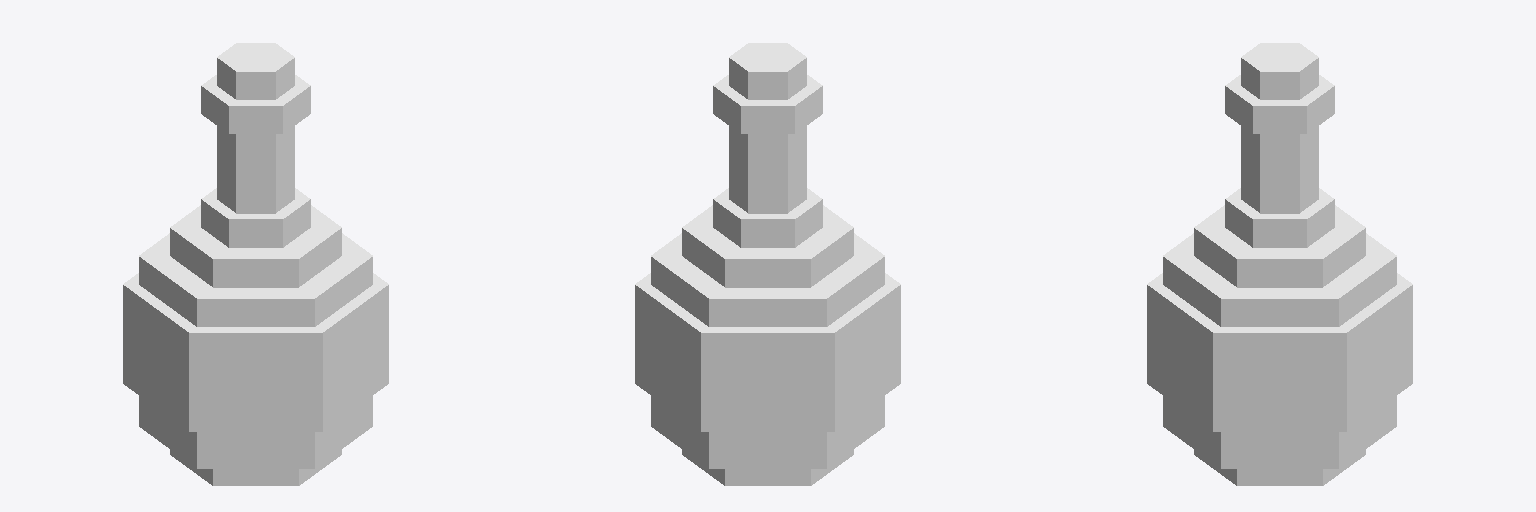
Rendered from bottle_of_wine.obj.
3 renders of one model, left to right at view 1: azimuth 30°, elevation 25°; view 2: azimuth 150°, elevation 25°; view 3: azimuth 270°, elevation 25°, orthographic.
Parts seen in each view (by area): view 1: middle, bottom2, bottom1, top2, top1, top3; view 2: middle, bottom2, bottom1, top2, top1, top3; view 3: middle, bottom2, bottom1, top2, top1, top3.
Part boxes in pixels (bbox=[...]): middle: bbox=[123, 273, 388, 431]; bottom2: bbox=[139, 233, 372, 468]; bottom1: bbox=[170, 205, 341, 485]; top2: bbox=[217, 43, 294, 213]; top1: bbox=[201, 188, 310, 247]; top3: bbox=[201, 75, 310, 133]; middle: bbox=[635, 273, 900, 431]; bottom2: bbox=[651, 233, 884, 468]; bottom1: bbox=[682, 205, 853, 485]; top2: bbox=[729, 43, 806, 213]; top1: bbox=[713, 188, 822, 247]; top3: bbox=[713, 75, 822, 133]; middle: bbox=[1147, 273, 1412, 431]; bottom2: bbox=[1163, 233, 1396, 468]; bottom1: bbox=[1194, 205, 1365, 485]; top2: bbox=[1241, 43, 1318, 213]; top1: bbox=[1225, 188, 1334, 247]; top3: bbox=[1225, 75, 1334, 133].
Size of the model in its own units: 0.4601 by 0.875 by 0.5312.